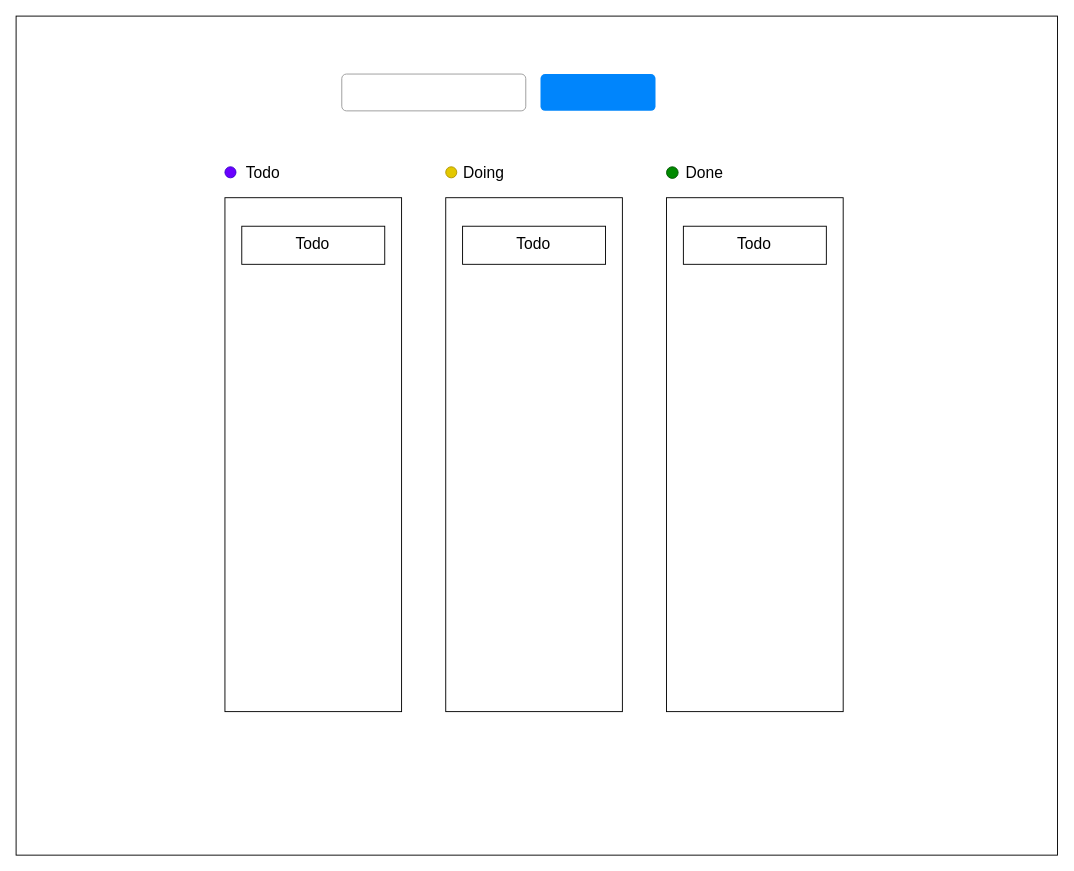
This 1074x871 diagram has some shape labels left out. Each missing label, with the centre of its shape:
"add todo" goes at (x=597, y=92).
"e.g oil change" goes at (x=433, y=92).
